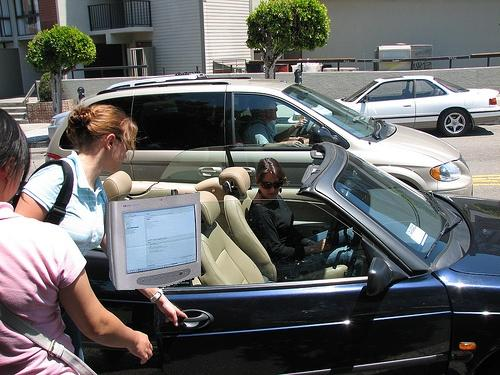tampered: (106, 193, 201, 290)
